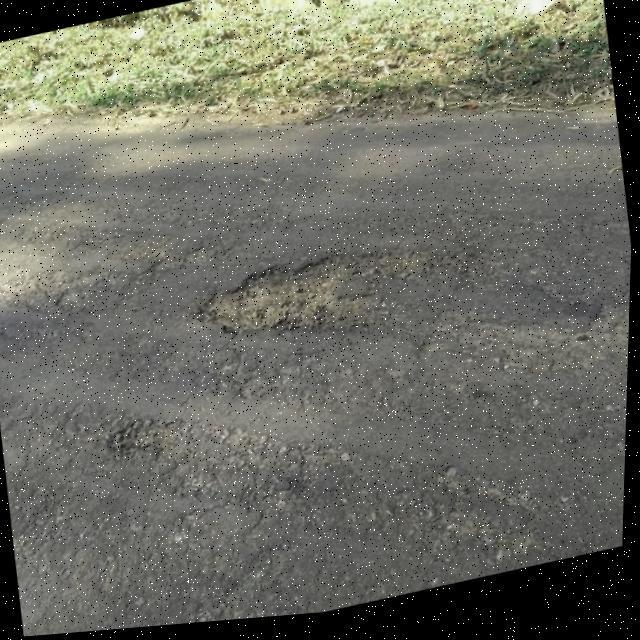pothole: (174, 220, 485, 378)
